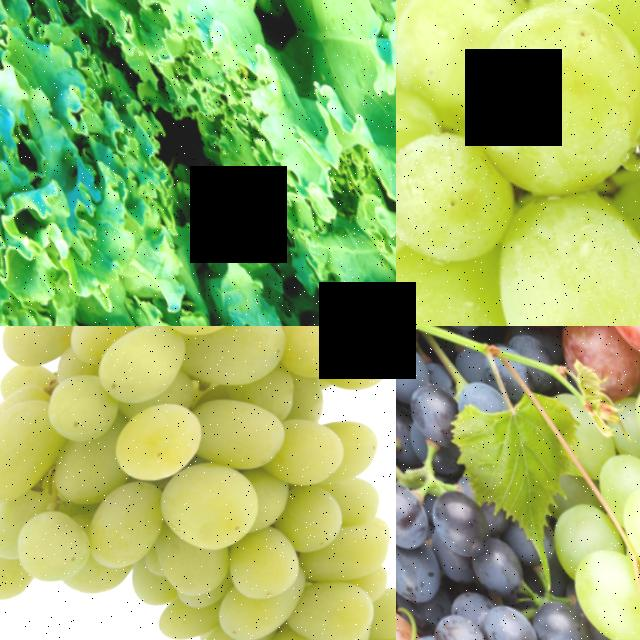grapes: (0, 326, 396, 640), (396, 0, 640, 326), (396, 455, 636, 640), (565, 332, 640, 640), (396, 471, 491, 640), (481, 326, 640, 406)
lettuce: (0, 0, 371, 326), (44, 0, 396, 326)
